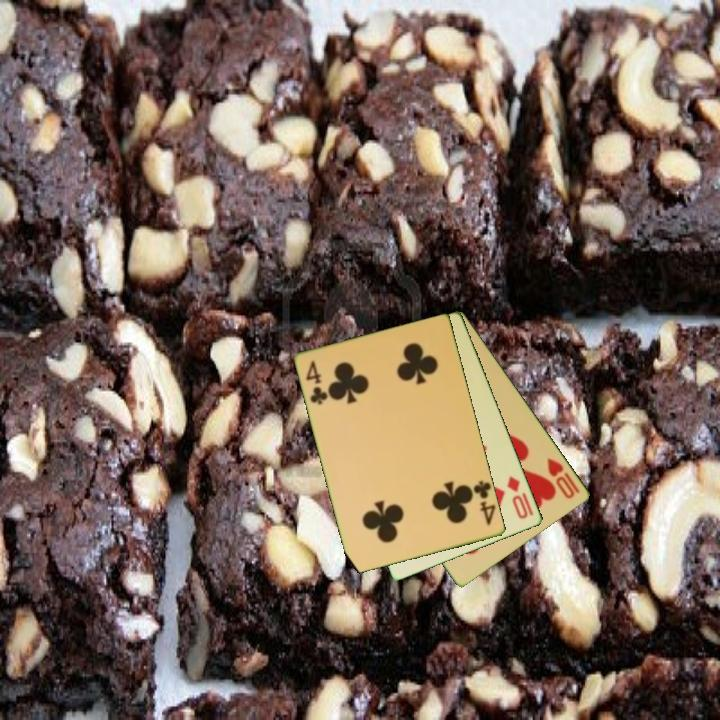10d: (504, 472, 531, 522)
10h: (544, 454, 583, 502)
4c: (470, 477, 499, 529), (303, 357, 331, 408)
